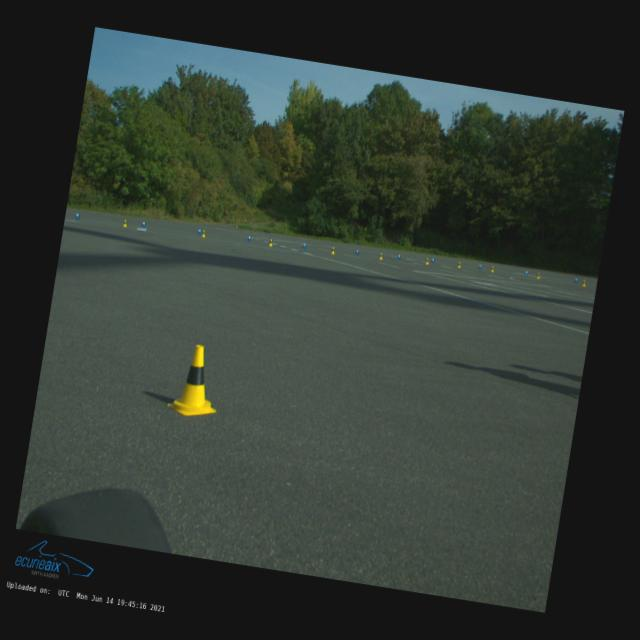blue_cone: (302, 241, 307, 248), (75, 212, 80, 219), (248, 234, 252, 242), (355, 248, 359, 255), (574, 276, 578, 282), (524, 270, 528, 276), (478, 264, 482, 270), (431, 258, 435, 264), (398, 253, 402, 259), (198, 228, 202, 234), (142, 221, 146, 227)
yellow_cone: (166, 342, 226, 421), (581, 280, 587, 288), (378, 252, 384, 260), (268, 239, 274, 247), (201, 230, 207, 238), (122, 220, 128, 228), (330, 247, 336, 254), (425, 258, 430, 264), (536, 272, 540, 279), (490, 266, 494, 272), (458, 262, 462, 268)
